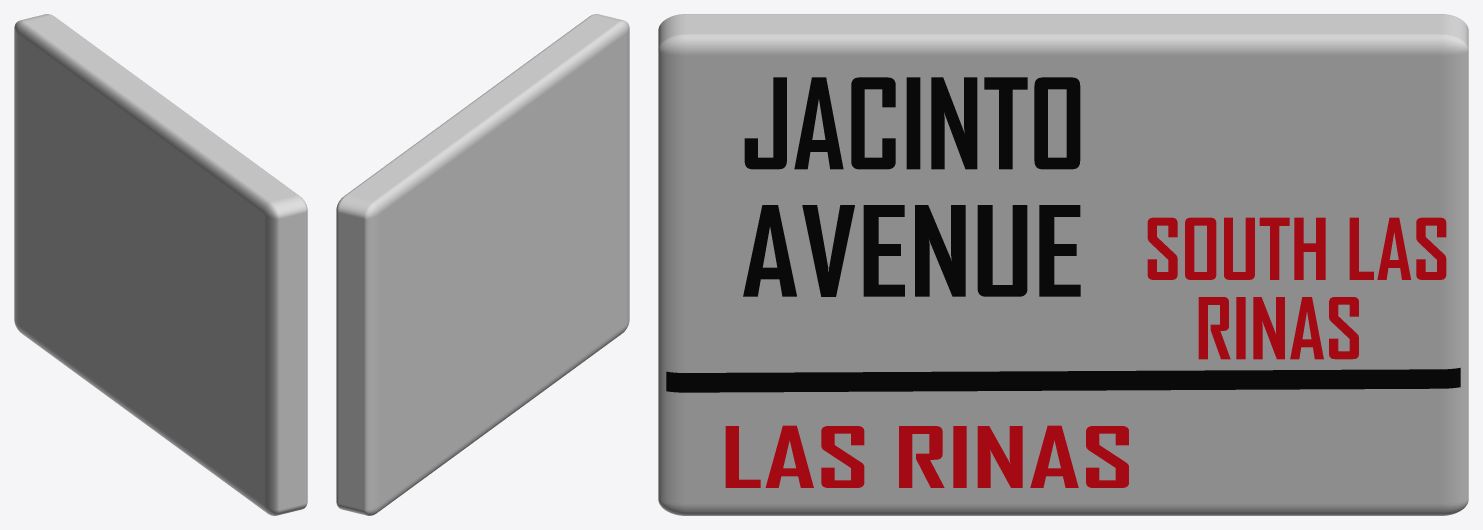
The model's file is uk_styled_street_sign_25.fbx.
3 renders of one model, left to right at view 1: azimuth 30°, elevation 25°; view 2: azimuth 150°, elevation 25°; view 3: azimuth 270°, elevation 25°, orthographic. The views are drawn at different scales.
Visible parts, largest first — view 1: Cube; view 2: Cube; view 3: Cube, Text.001, Text, Text.002, Text.003, Text.004.
Part boxes in pixels (left/top/right/bottom): Cube: left=14, top=14, right=307, bottom=515; Cube: left=336, top=14, right=629, bottom=515; Cube: left=658, top=14, right=1468, bottom=515; Text.001: left=743, top=205, right=1080, bottom=296; Text: left=744, top=77, right=1080, bottom=169; Text.002: left=725, top=425, right=1128, bottom=487; Text.003: left=1147, top=217, right=1446, bottom=279; Text.004: left=1198, top=297, right=1358, bottom=359.
Size of the model in its own units: 1.63 by 11.91 by 18.18.
